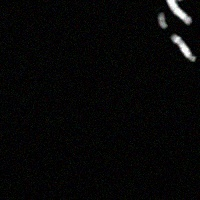chromosome: (144, 0, 192, 24), (171, 34, 196, 61), (157, 11, 168, 28), (175, 0, 192, 2)
